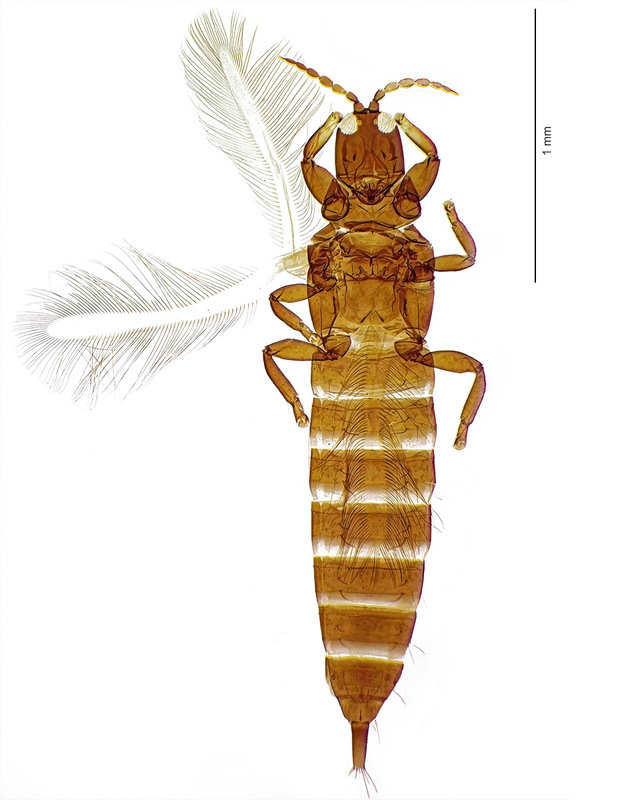Phlaeothripidae: (18, 9, 615, 796)
